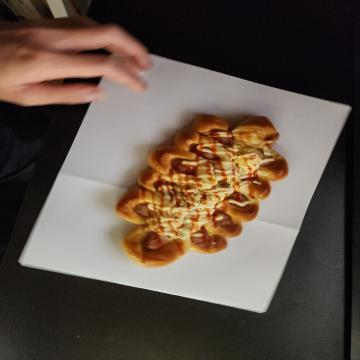pizza_bread: (112, 70, 269, 243)
